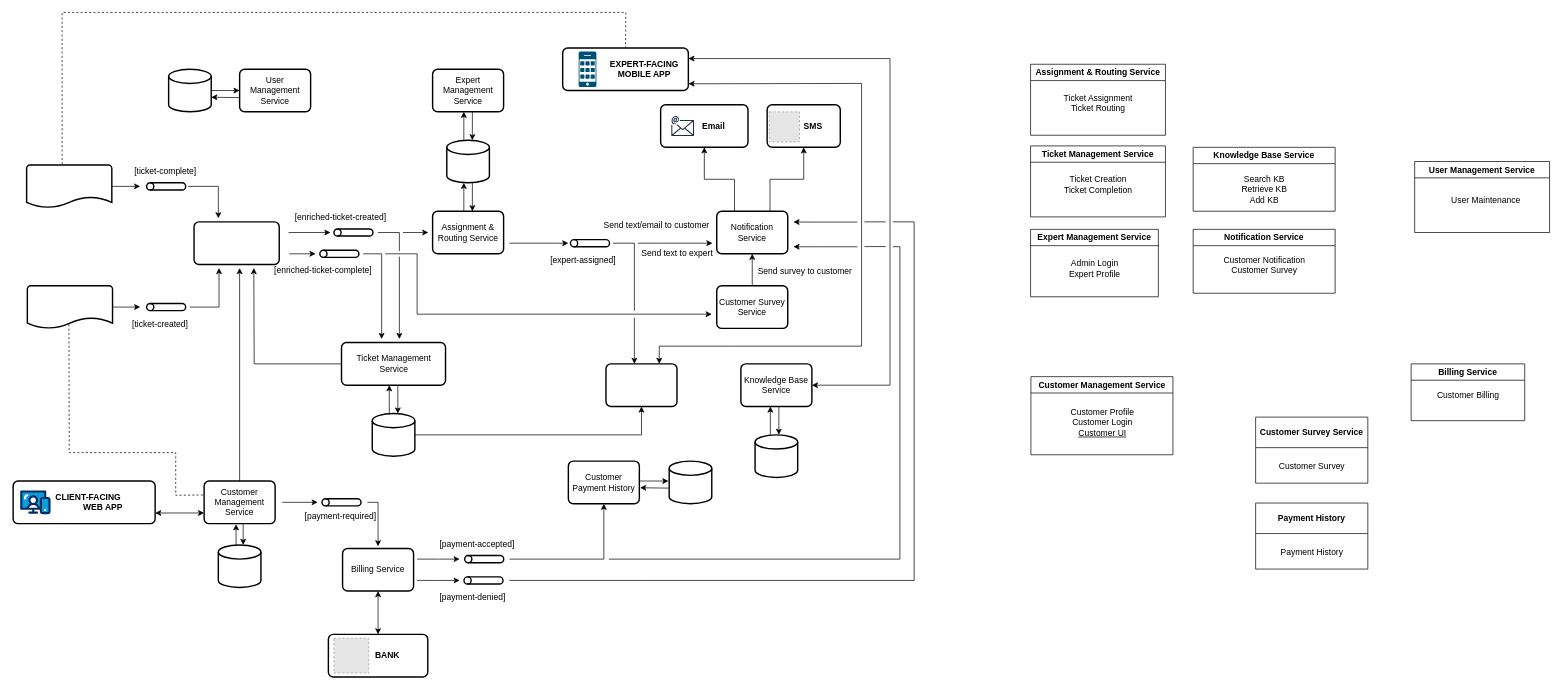
This 1562x690 diagram has some shape labels left out. Grey dashed boxes stand in for pictures. The centre of each missing label's shape, as x and y in pixels:
Billing History DB: point (690, 482)
Customer DB: point (239, 566)
Expert marks ticket as "complete": point (69, 186)
Experts DB: point (468, 161)
KB DB: point (776, 456)
Ticket Information Retreiver (Expert): point (641, 385)
Ticket Management Mediator: point (236, 243)
Tickets DB: point (393, 435)
User Login DB: point (190, 90)
User submits newly created ticket: point (69, 307)
